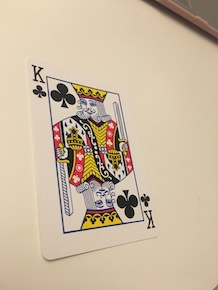KingOfClubs: (24, 51, 166, 262)
